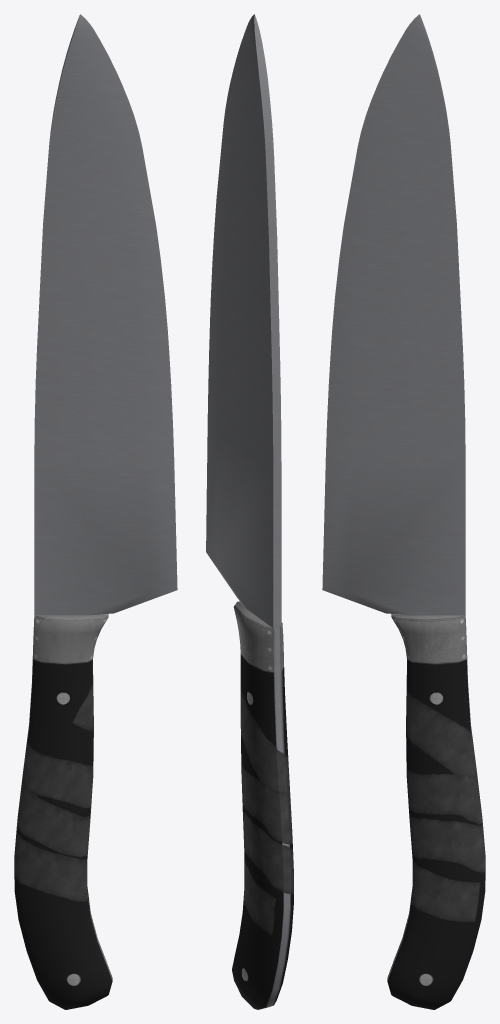
Rendered from knife_small.glb.
3 renders of one model, left to right at view 1: azimuth 90°, elevation 25°; view 2: azimuth 210°, elevation 25°; view 3: azimuth 270°, elevation 25°, orthographic.
Parts seen in each view (by area): view 1: Knife2, Knife1; view 2: Knife2, Knife1; view 3: Knife2, Knife1.
Part boxes in pixels (box(x1,y1,x2,y2)): Knife2: box(34, 14, 177, 615); Knife1: box(14, 614, 112, 1009); Knife2: box(206, 14, 281, 628); Knife1: box(232, 601, 293, 1009); Knife2: box(322, 14, 465, 615); Knife1: box(387, 614, 485, 1009).
Size of the model in its own units: 0.0299 by 1.02 by 0.1522.
1 material, 1 textured.
